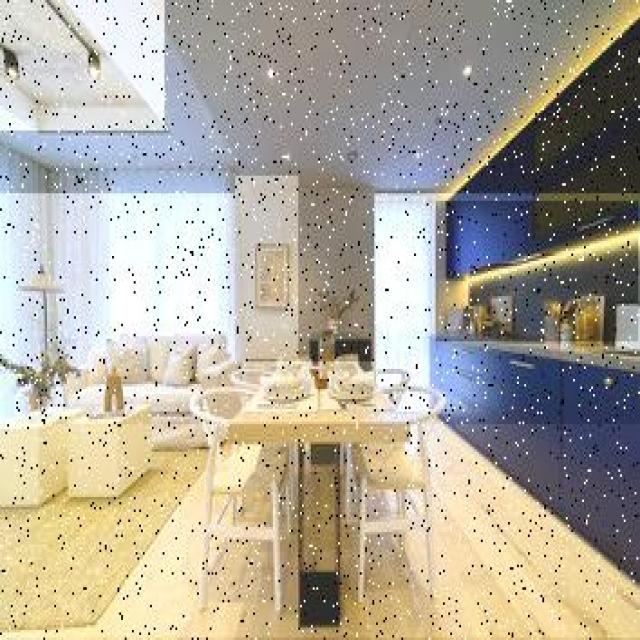Wall: (0, 424, 640, 637), (0, 0, 640, 193), (437, 204, 640, 341), (0, 0, 165, 131), (247, 191, 374, 361), (237, 176, 298, 359)
